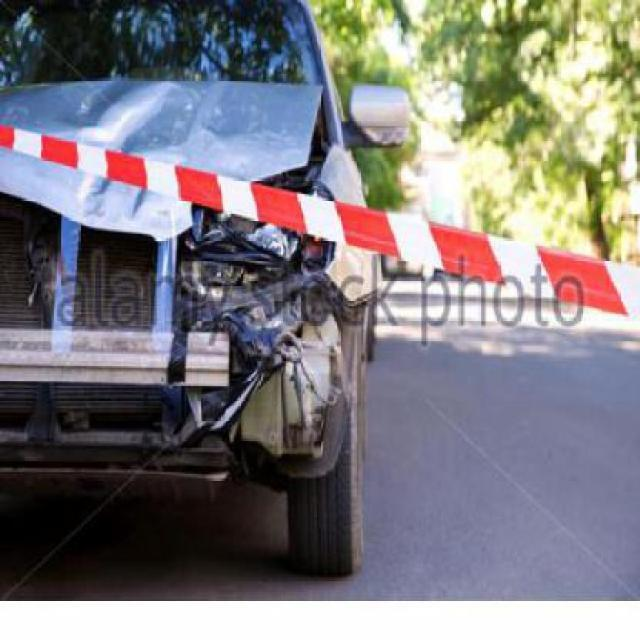bonnet-dent: (0, 76, 320, 233)
